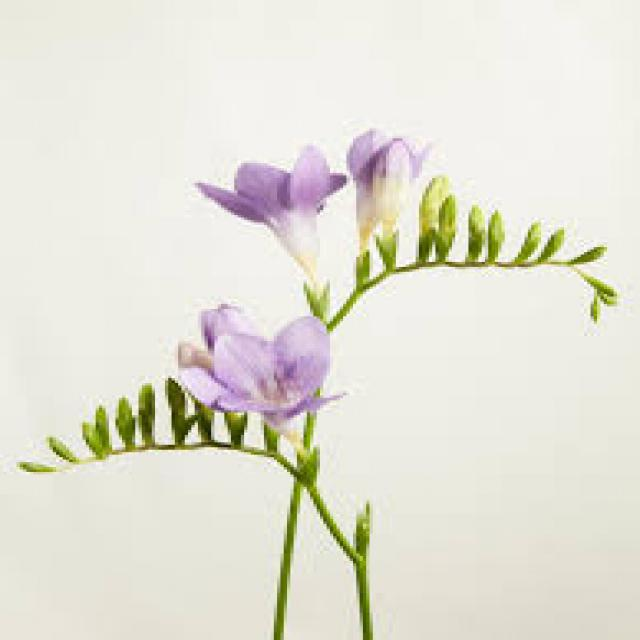freesia: (144, 296, 366, 416), (192, 129, 329, 295), (335, 107, 426, 270)
